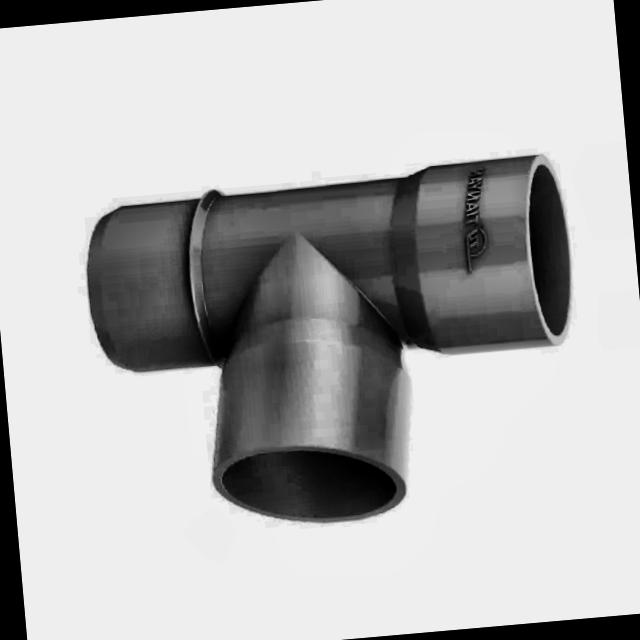EQUALTEE: (83, 151, 571, 523)
